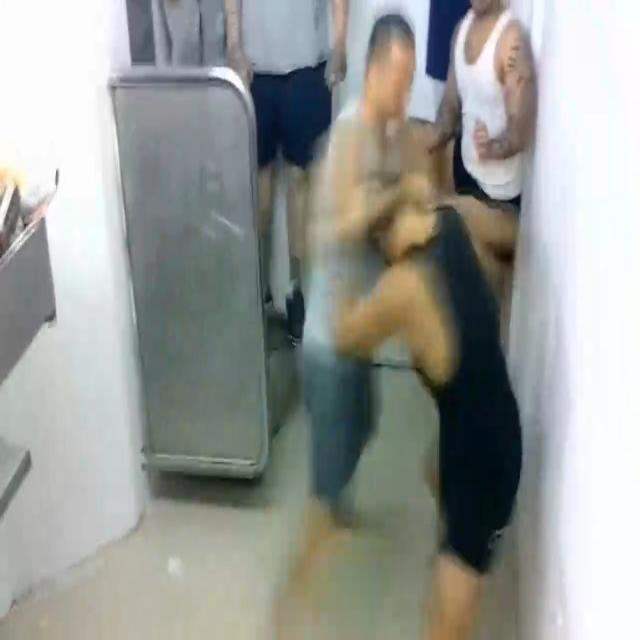fight: (311, 13, 524, 590)
